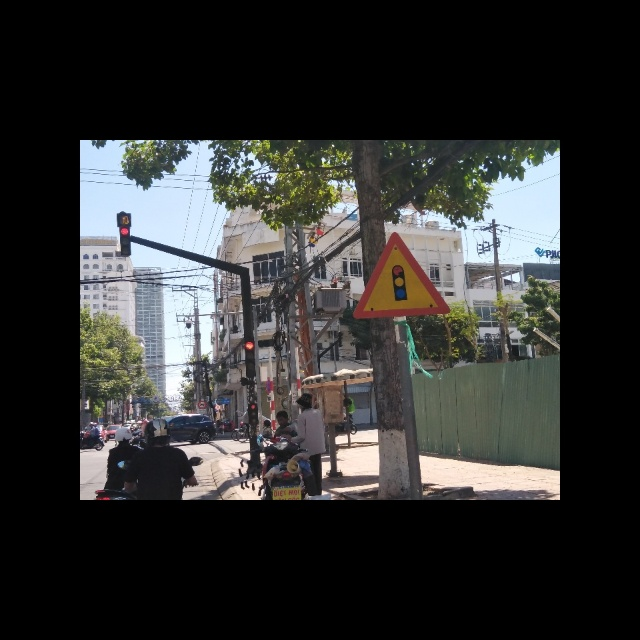Giao nhau có tín hiệu đèn: (357, 230, 452, 322)
Đèn đỏ: (245, 341, 254, 350)
